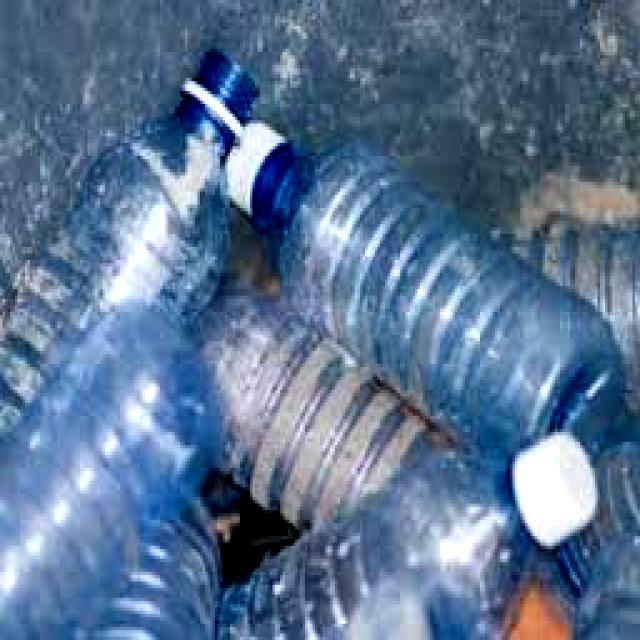Plastic: (222, 110, 628, 461), (0, 35, 267, 446), (217, 427, 608, 640), (0, 301, 228, 640)
